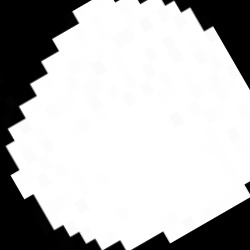spot: (7, 0, 248, 248)
